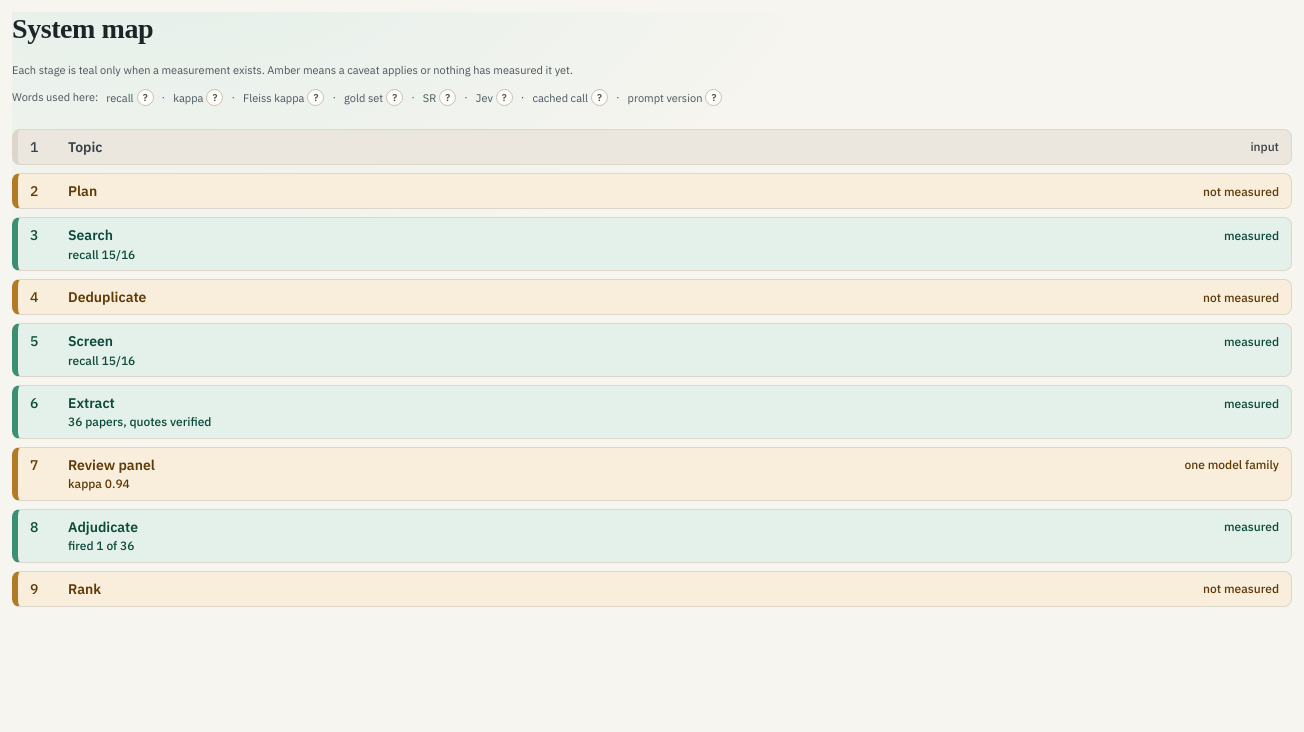
SystemMapPage › a stage opens its panel and the choice is in the URL
Click the button "5 Screen measured recall 15/16".
click(91, 341)  # box [12,323,1292,377]
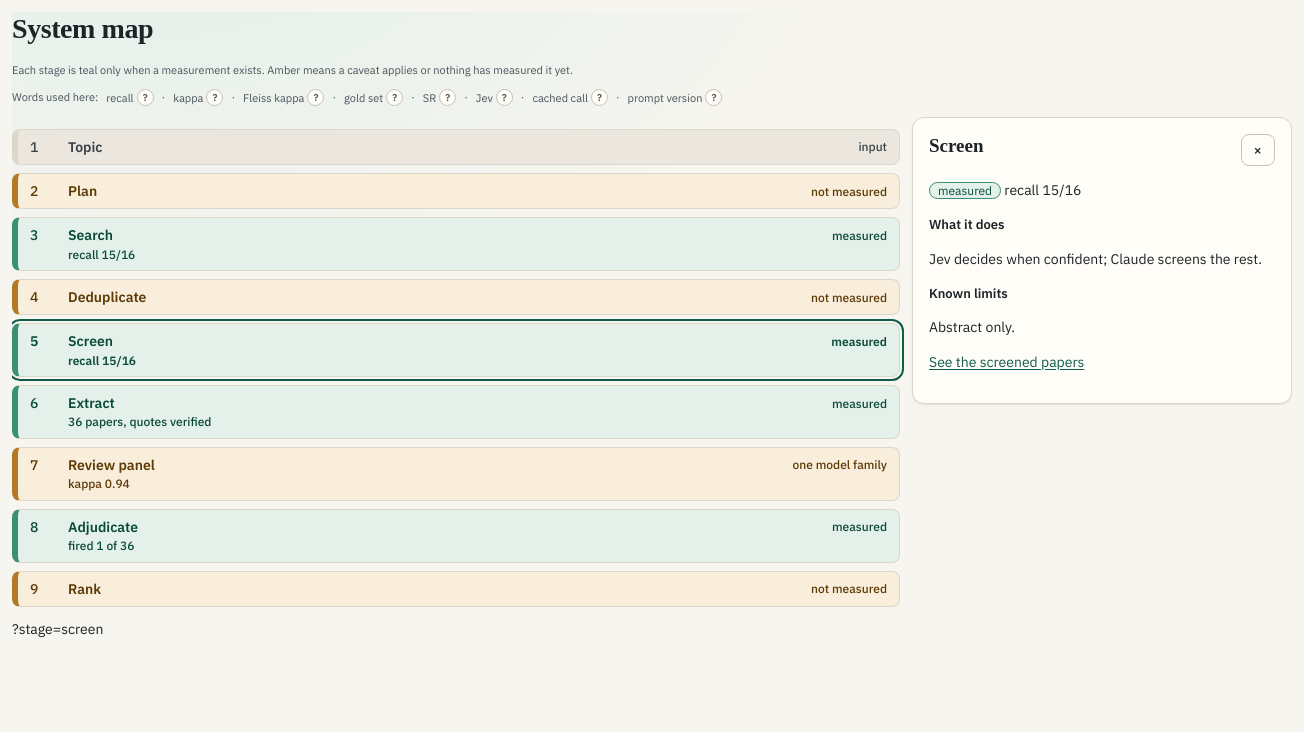
Now the text "Jev decides when confident; Claude screens the rest." is shown, box [929,249,1275,270]
Now the text "Abstract only." is shown, box [929,318,1015,336]
Now the text named "location" shows "stage=screen", box [12,620,103,638]
